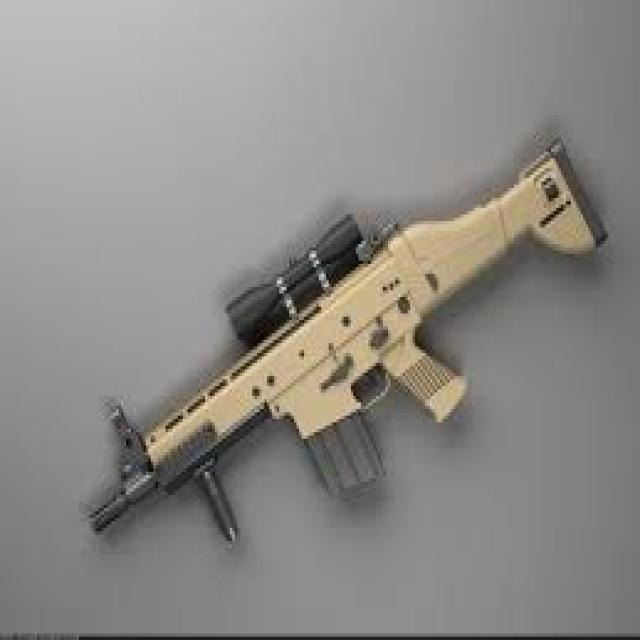Gun: (75, 152, 604, 567)
